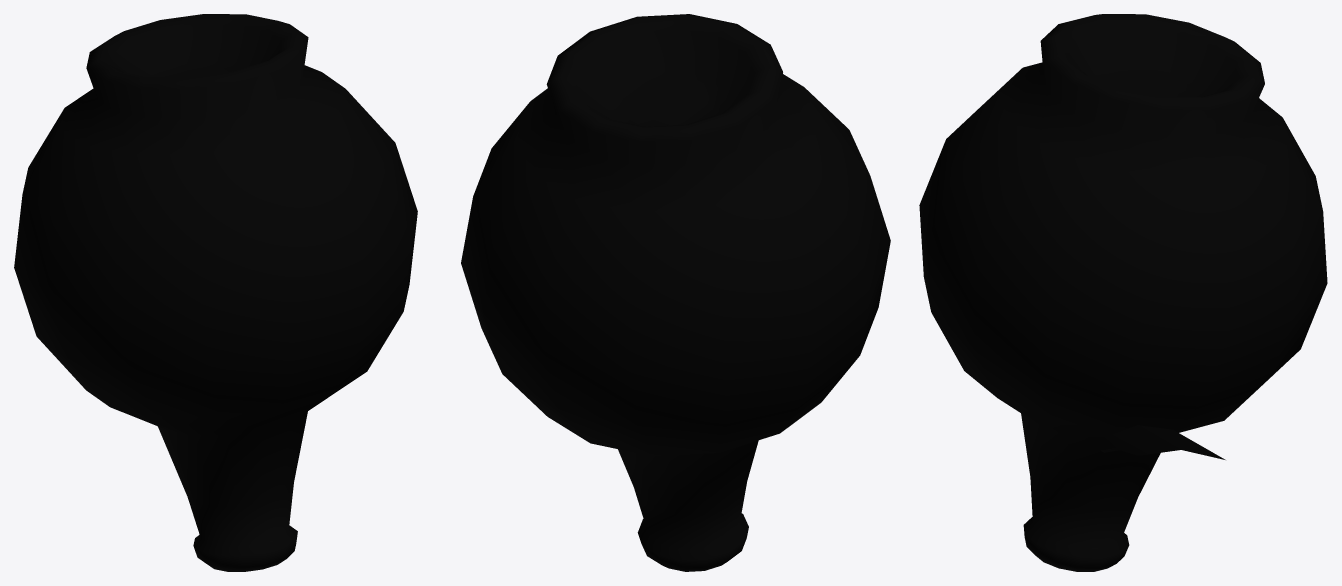
The model's file is Potion example 2.fbx.
3 renders of one model, left to right at view 1: azimuth 30°, elevation 25°; view 2: azimuth 150°, elevation 25°; view 3: azimuth 270°, elevation 25°, orthographic. The views are drawn at different scales.
Parts seen in each view (by area): view 1: node_id4; view 2: node_id4; view 3: node_id4.
Part boxes in pixels (x1,y1,x2,y2): node_id4: [14, 14, 417, 571]; node_id4: [461, 14, 890, 571]; node_id4: [919, 14, 1327, 571].
Size of the model in its own units: 0.398 by 0.5257 by 0.3793.
1 material, 1 textured.
